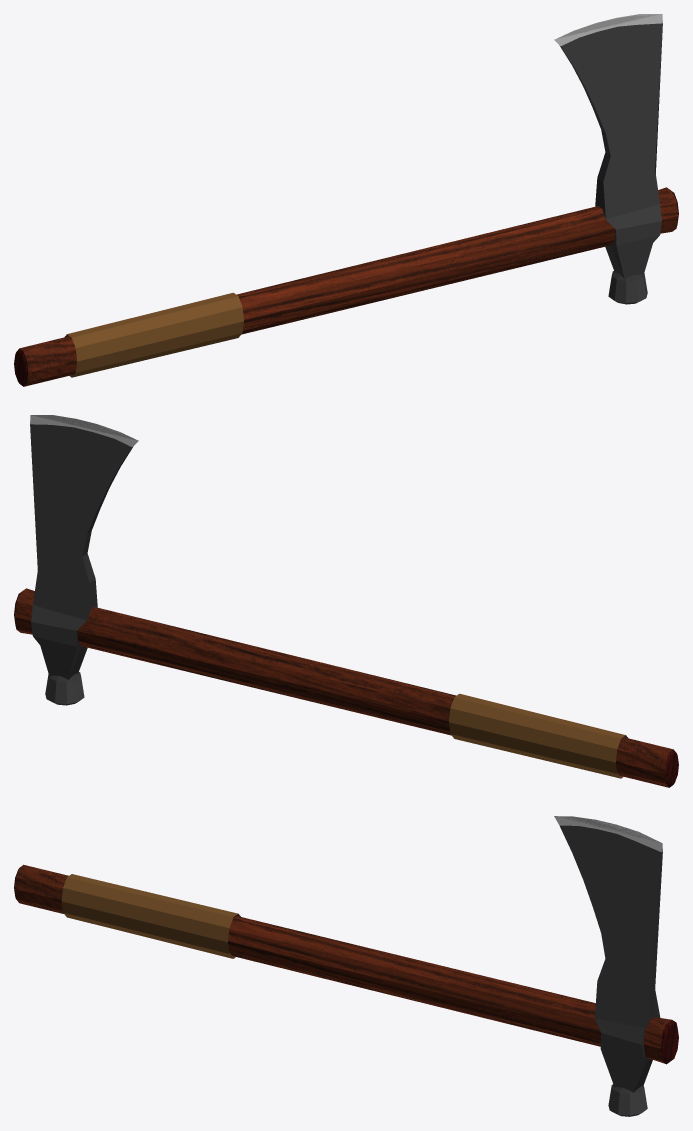
The model's file is Tomahawk.fbx.
The picture shows the model from 3 angles, top to bottom: view 1: azimuth 30°, elevation 25°; view 2: azimuth 150°, elevation 25°; view 3: azimuth 330°, elevation 25°; orthographic projection.
Visible parts, largest first — view 1: ZomboidTomahawk; view 2: ZomboidTomahawk; view 3: ZomboidTomahawk.
Boxes of the visible parts, bbox=[...] form: ZomboidTomahawk: bbox=[14, 14, 678, 386]; ZomboidTomahawk: bbox=[14, 415, 678, 787]; ZomboidTomahawk: bbox=[14, 816, 678, 1116].
Size of the model in its own units: 0.3939 by 0.1635 by 0.021.
